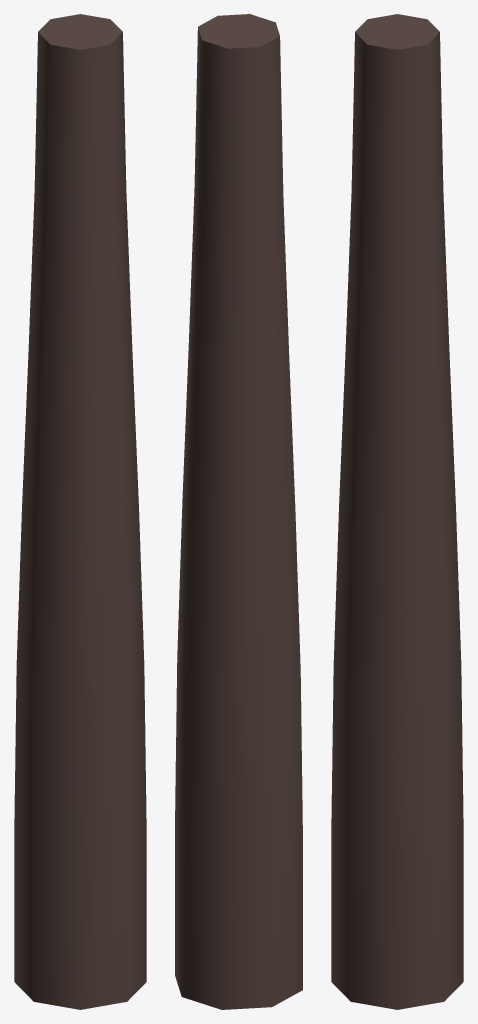
File: pickaxe_handle.fbx
3 views of the same model, side by side, from view 1: azimuth 90°, elevation 25°; view 2: azimuth 210°, elevation 25°; view 3: azimuth 270°, elevation 25° (orthographic).
Parts seen in each view (by area): view 1: pickaxe.handle; view 2: pickaxe.handle; view 3: pickaxe.handle.
Part boxes in pixels (x1=…): pickaxe.handle: x1=14, y1=14, x2=146, y2=1009; pickaxe.handle: x1=175, y1=14, x2=302, y2=1009; pickaxe.handle: x1=331, y1=14, x2=463, y2=1009.
Size of the model in its own units: 25.21 by 200 by 25.21.
